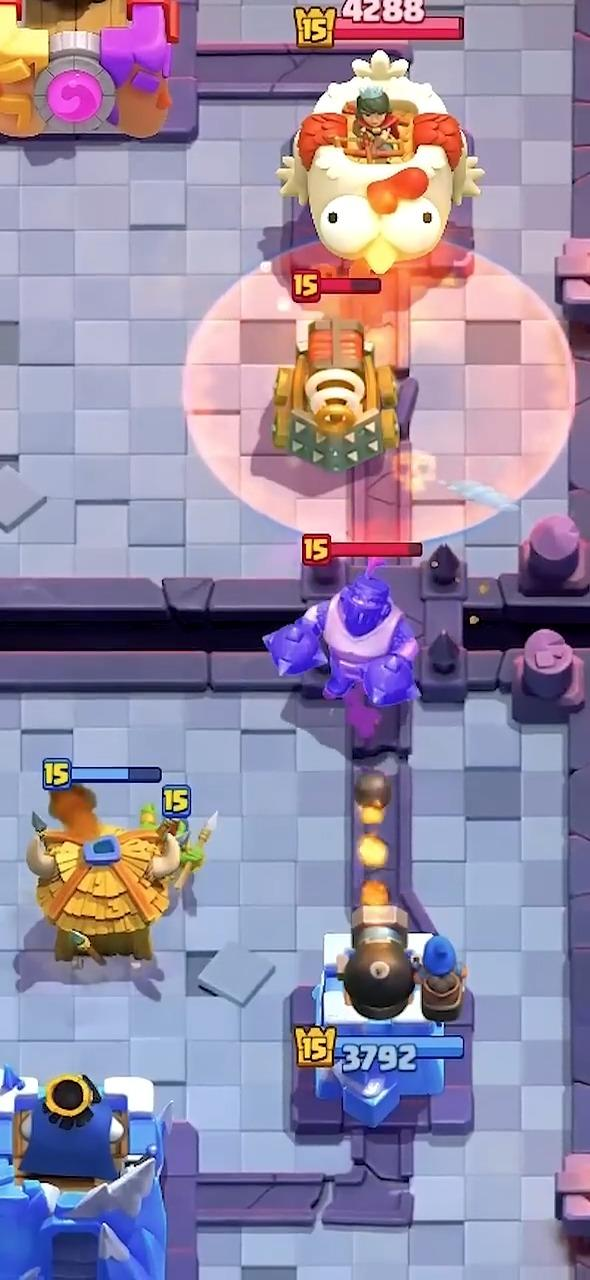goblin hut: (27, 784, 180, 965)
mega knight: (263, 558, 417, 735)
poison: (397, 258, 574, 542), (183, 263, 346, 537), (414, 259, 572, 501), (418, 494, 464, 540)
sparky: (273, 312, 398, 475)
